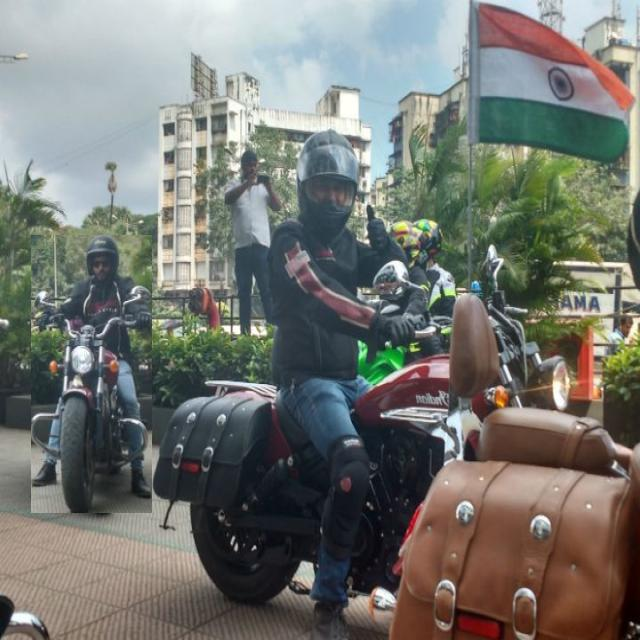motorcycle: (154, 132, 570, 634), (31, 235, 151, 513)
